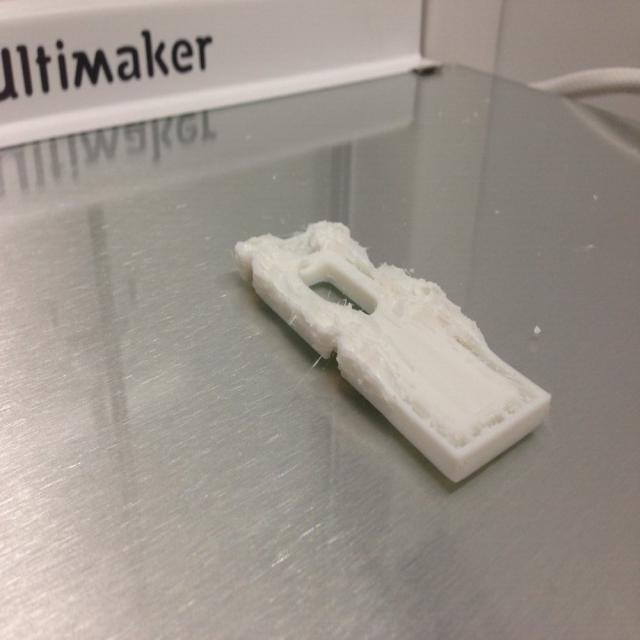Warping: (235, 254, 459, 481), (462, 418, 545, 482)
